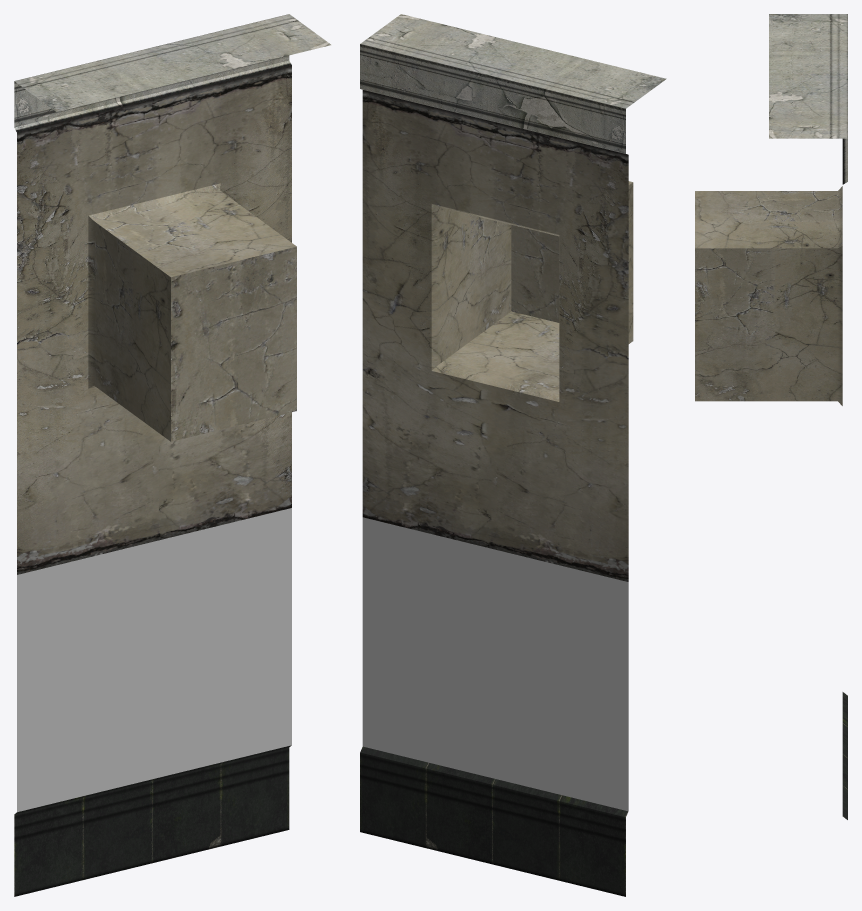
The model's file is urban_damaged_small_square_hole_wall.dae.
3 renders of one model, left to right at view 1: azimuth 30°, elevation 25°; view 2: azimuth 150°, elevation 25°; view 3: azimuth 270°, elevation 25°, orthographic. The views are drawn at different scales.
Visible parts, largest first — view 1: polySurface746, polySurface749, polySurface748, polySurface747; view 2: polySurface746, polySurface749, polySurface748, polySurface747; view 3: polySurface746, polySurface747, polySurface748.
Part boxes in pixels (<box>): polySurface746: <box>17,65,296,574</box>; polySurface749: <box>17,508,291,812</box>; polySurface748: <box>14,745,291,896</box>; polySurface747: <box>14,14,330,132</box>; polySurface746: <box>362,90,633,581</box>; polySurface749: <box>362,517,628,811</box>; polySurface748: <box>360,746,628,896</box>; polySurface747: <box>360,14,666,154</box>; polySurface746: <box>695,186,842,405</box>; polySurface747: <box>769,14,847,184</box>; polySurface748: <box>842,692,847,819</box>.
Bounding box in the file's own units: 2 × 5.67 × 1.03.
